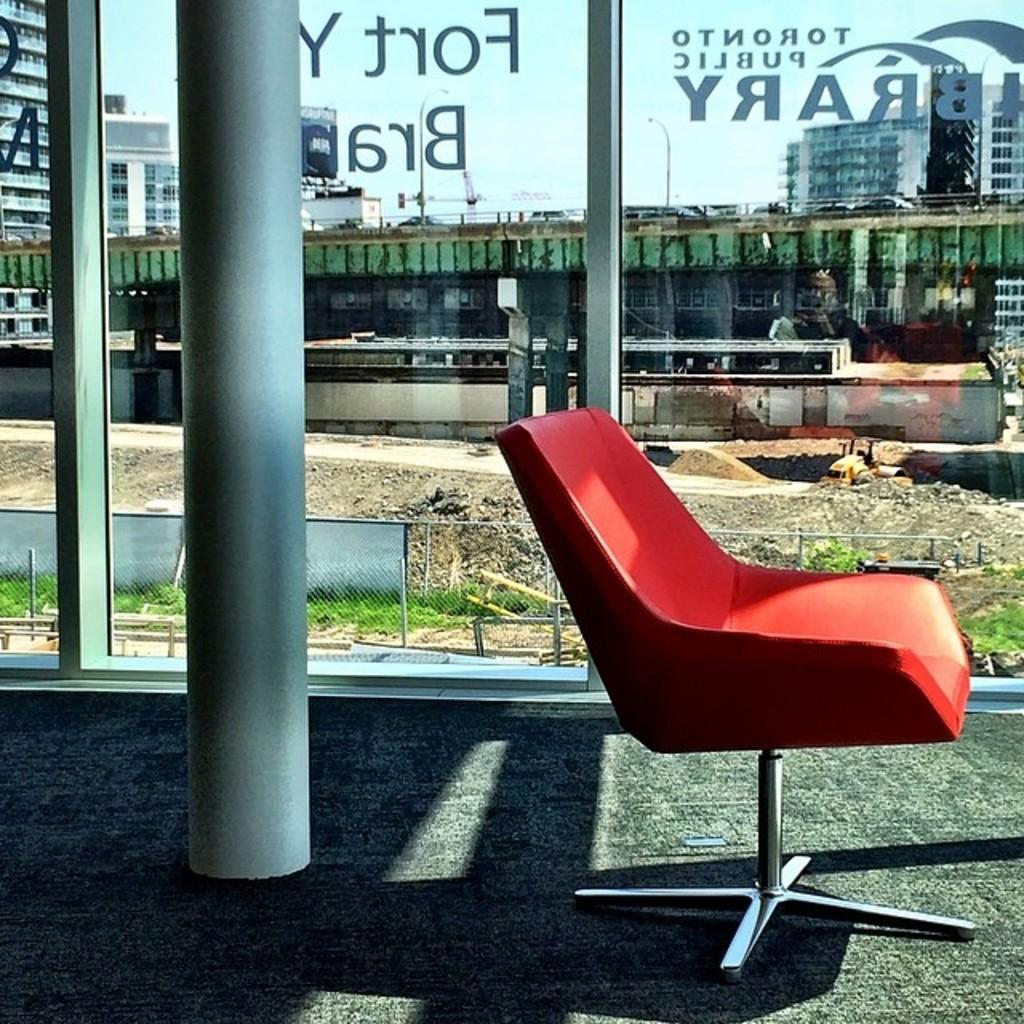Chair: (466, 411, 989, 989)
